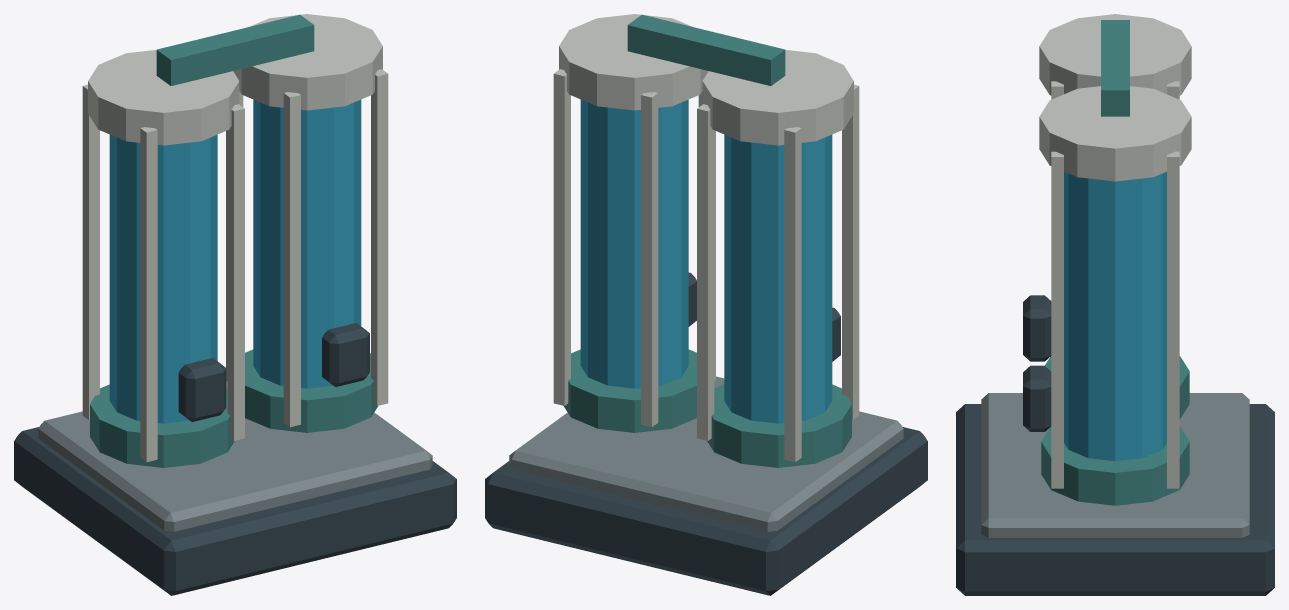
Rendered from phw_tank_twin.glb.
3 renders of one model, left to right at view 1: azimuth 30°, elevation 25°; view 2: azimuth 150°, elevation 25°; view 3: azimuth 270°, elevation 25°, orthographic.
Visible parts, largest first — view 1: body, water_peak, water_committed; view 2: body, water_peak, water_committed; view 3: body, water_committed.
Boxes of the visible parts, x1,y1,x2,y2 form: body: [14, 14, 456, 595]; water_peak: [109, 134, 217, 423]; water_committed: [253, 99, 361, 388]; body: [485, 14, 927, 595]; water_peak: [724, 134, 832, 423]; water_committed: [580, 99, 688, 388]; body: [956, 14, 1274, 595]; water_committed: [1064, 171, 1166, 461].
Size of the model in its own units: 0.94 by 1.44 by 0.88.
